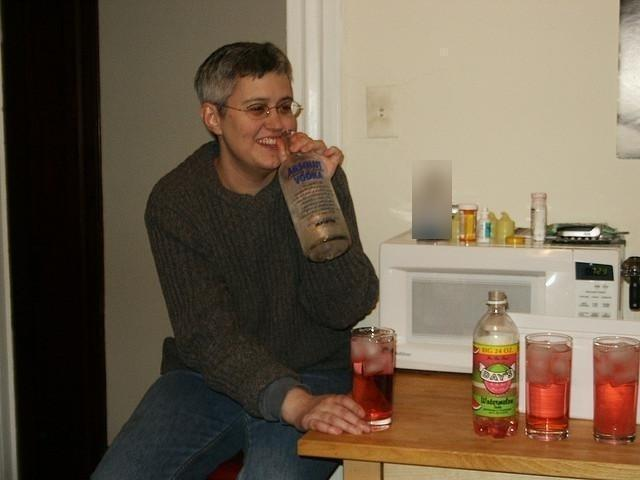bottle-glass: (277, 148, 352, 262)
bottle-plastic: (473, 290, 519, 438)
glass-normal: (587, 337, 639, 447), (523, 332, 574, 442), (348, 324, 399, 430)
